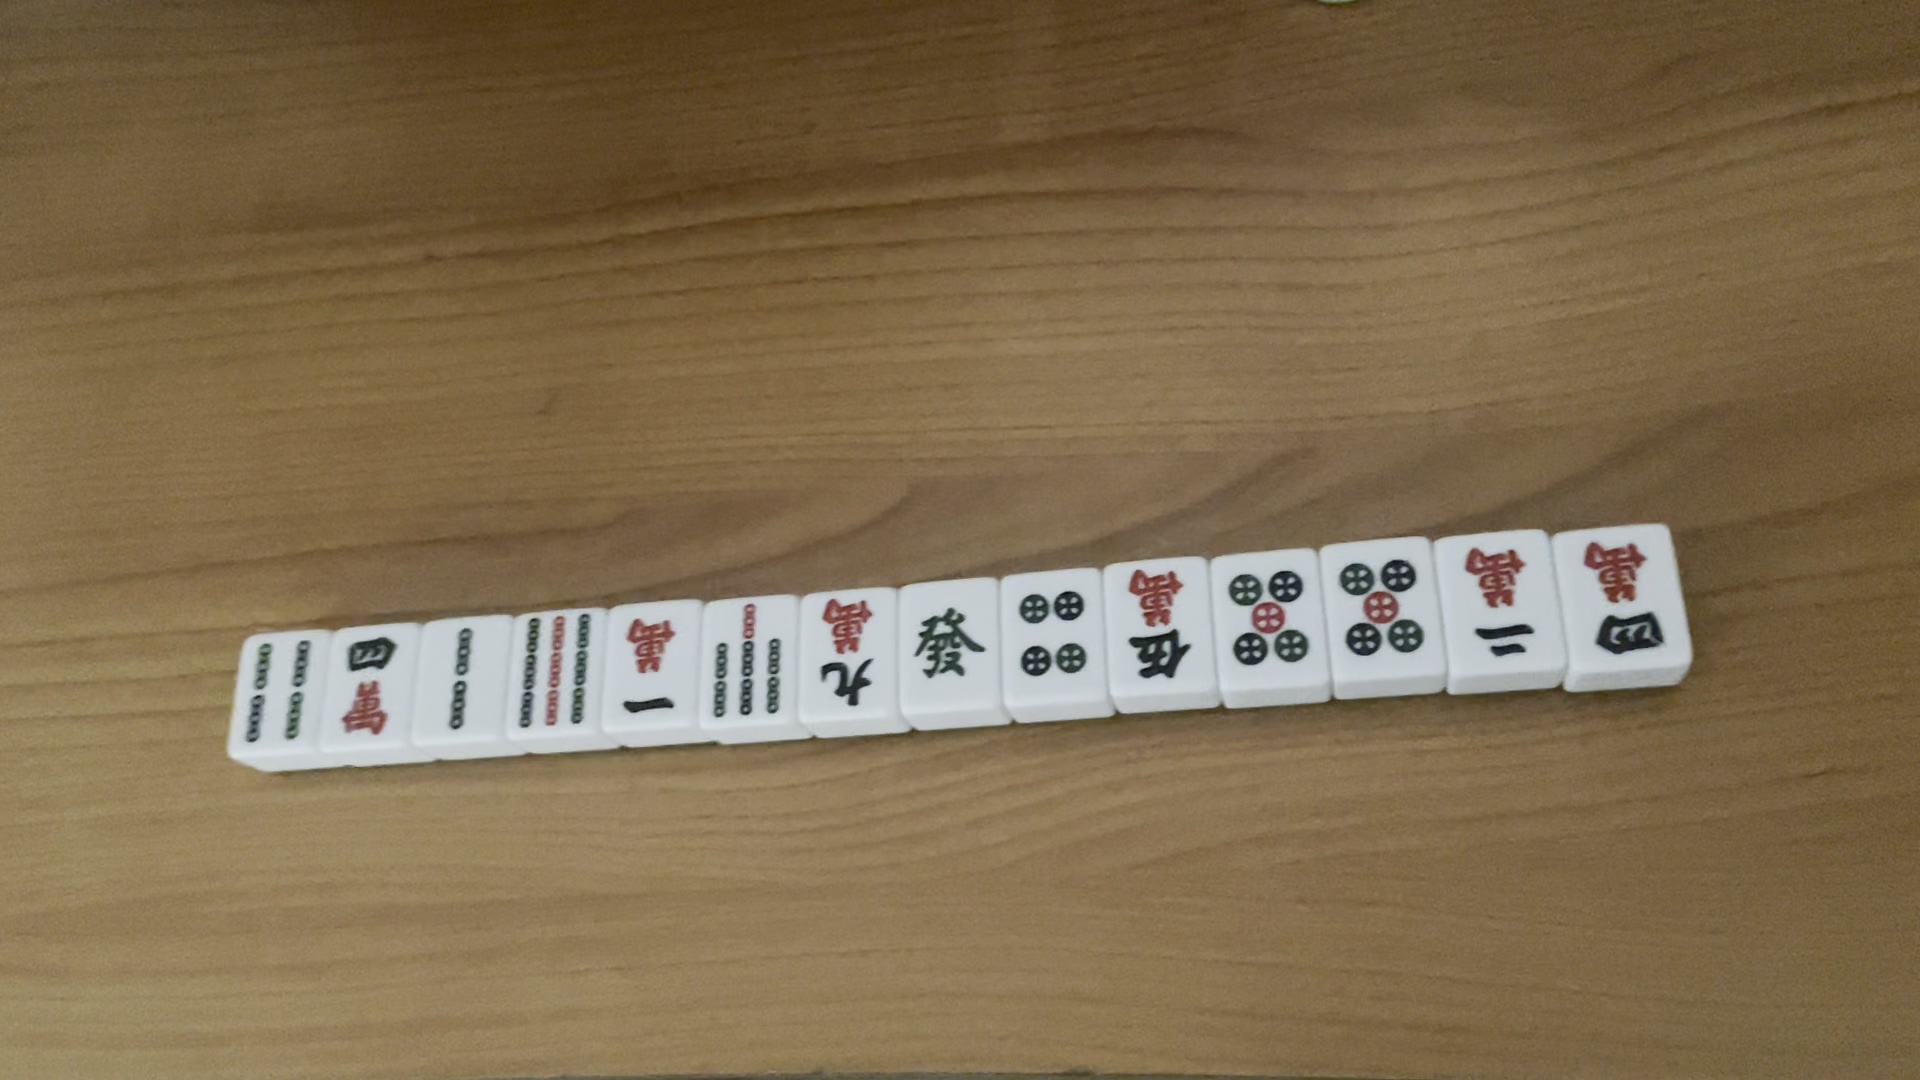b-2: (426, 630, 491, 735)
b-4: (241, 637, 307, 748)
b-9: (512, 608, 600, 731)
c-1: (603, 615, 686, 723)
c-2: (1457, 543, 1552, 666)
c-4: (1580, 538, 1671, 657), (334, 636, 393, 742)
c-5: (1118, 566, 1199, 688)
c-7: (705, 603, 790, 724)
c-9: (810, 595, 886, 711)
d-4: (1010, 591, 1091, 680)
d-5: (1335, 550, 1428, 669), (1228, 567, 1313, 673)
honors-green: (909, 603, 992, 702)
